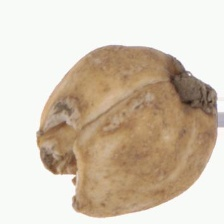L1: (36, 133, 82, 213), (169, 54, 217, 115)
L2: (36, 44, 218, 219)
